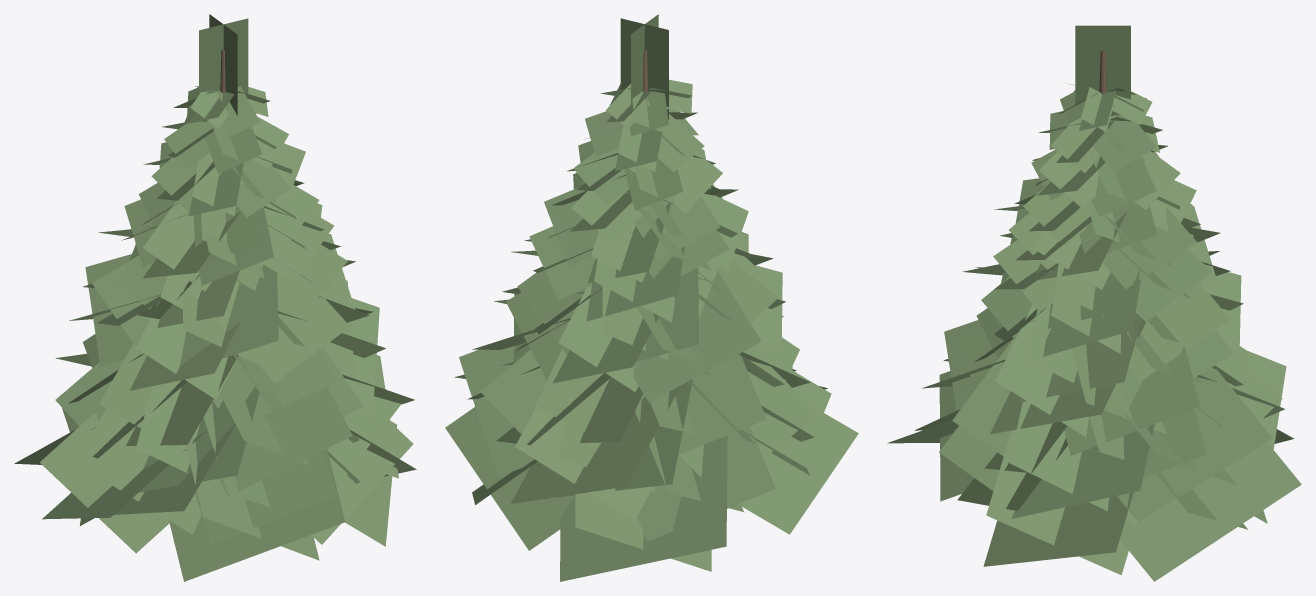
File: SM_Pine_C.fbx
3 renders of one model, left to right at view 1: azimuth 30°, elevation 25°; view 2: azimuth 150°, elevation 25°; view 3: azimuth 270°, elevation 25°, orthographic.
Parts seen in each view (by area): view 1: SM_Pine_C; view 2: SM_Pine_C; view 3: SM_Pine_C.
Part boxes in pixels (x1,y1,x2,y2): SM_Pine_C: [14, 14, 416, 581]; SM_Pine_C: [445, 14, 858, 581]; SM_Pine_C: [887, 25, 1301, 581].
Size of the model in its own units: 6.5 by 8.88 by 6.72.
